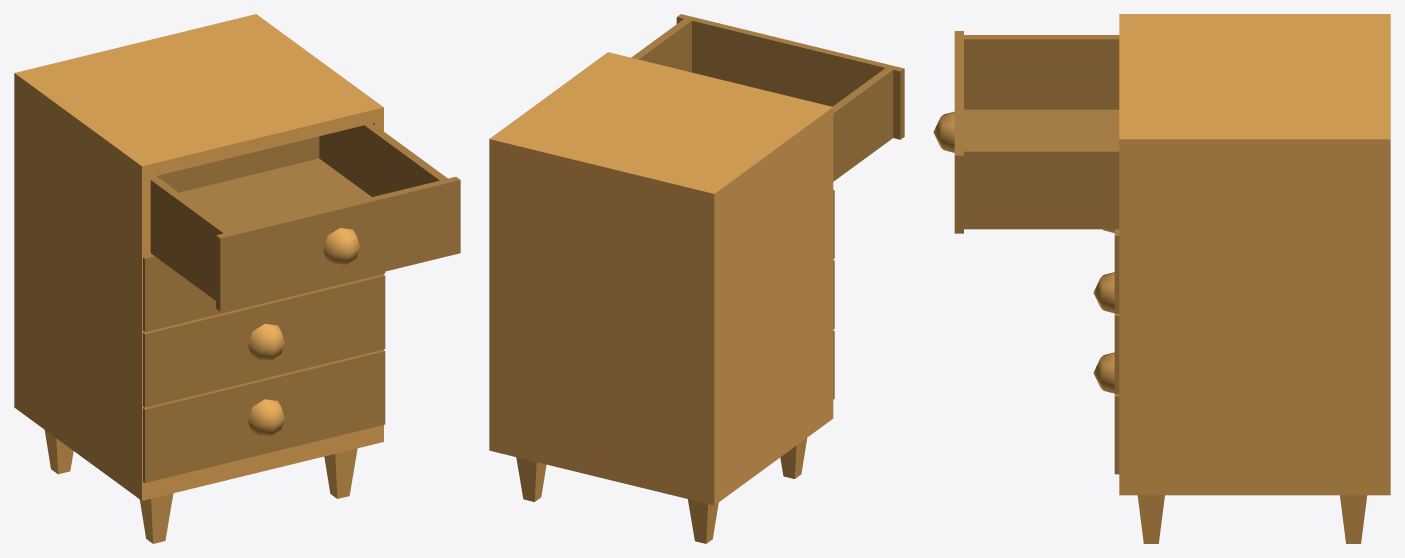
File: nightstand_opened.glb
3 views of the same model, side by side, from view 1: azimuth 30°, elevation 25°; view 2: azimuth 150°, elevation 25°; view 3: azimuth 270°, elevation 25° (orthographic). The views are drawn at different scales.
Parts seen in each view (by area): view 1: nightstand_Opened; view 2: nightstand_Opened; view 3: nightstand_Opened.
Boxes of the visible parts, box(x1,y1,x2,y2) form: nightstand_Opened: box(14, 14, 460, 543); nightstand_Opened: box(489, 14, 904, 543); nightstand_Opened: box(933, 14, 1390, 543).
Size of the model in its own units: 0.5451 by 0.8433 by 0.8394.
